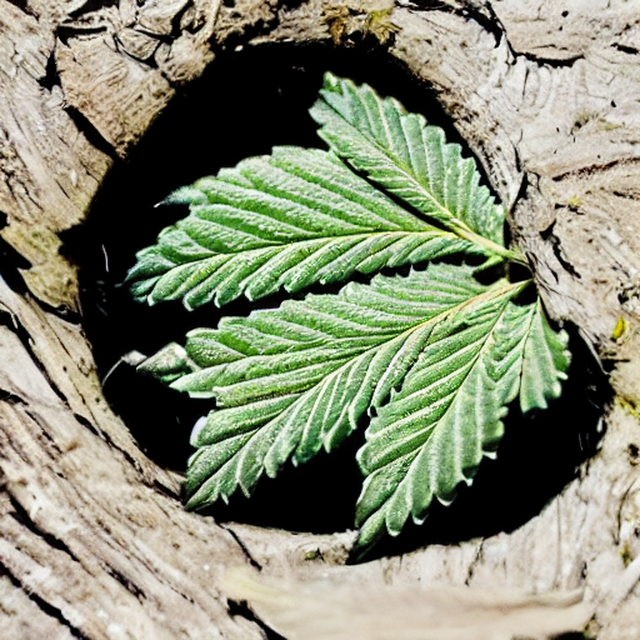Marijuana Leaf: (119, 69, 573, 559)
